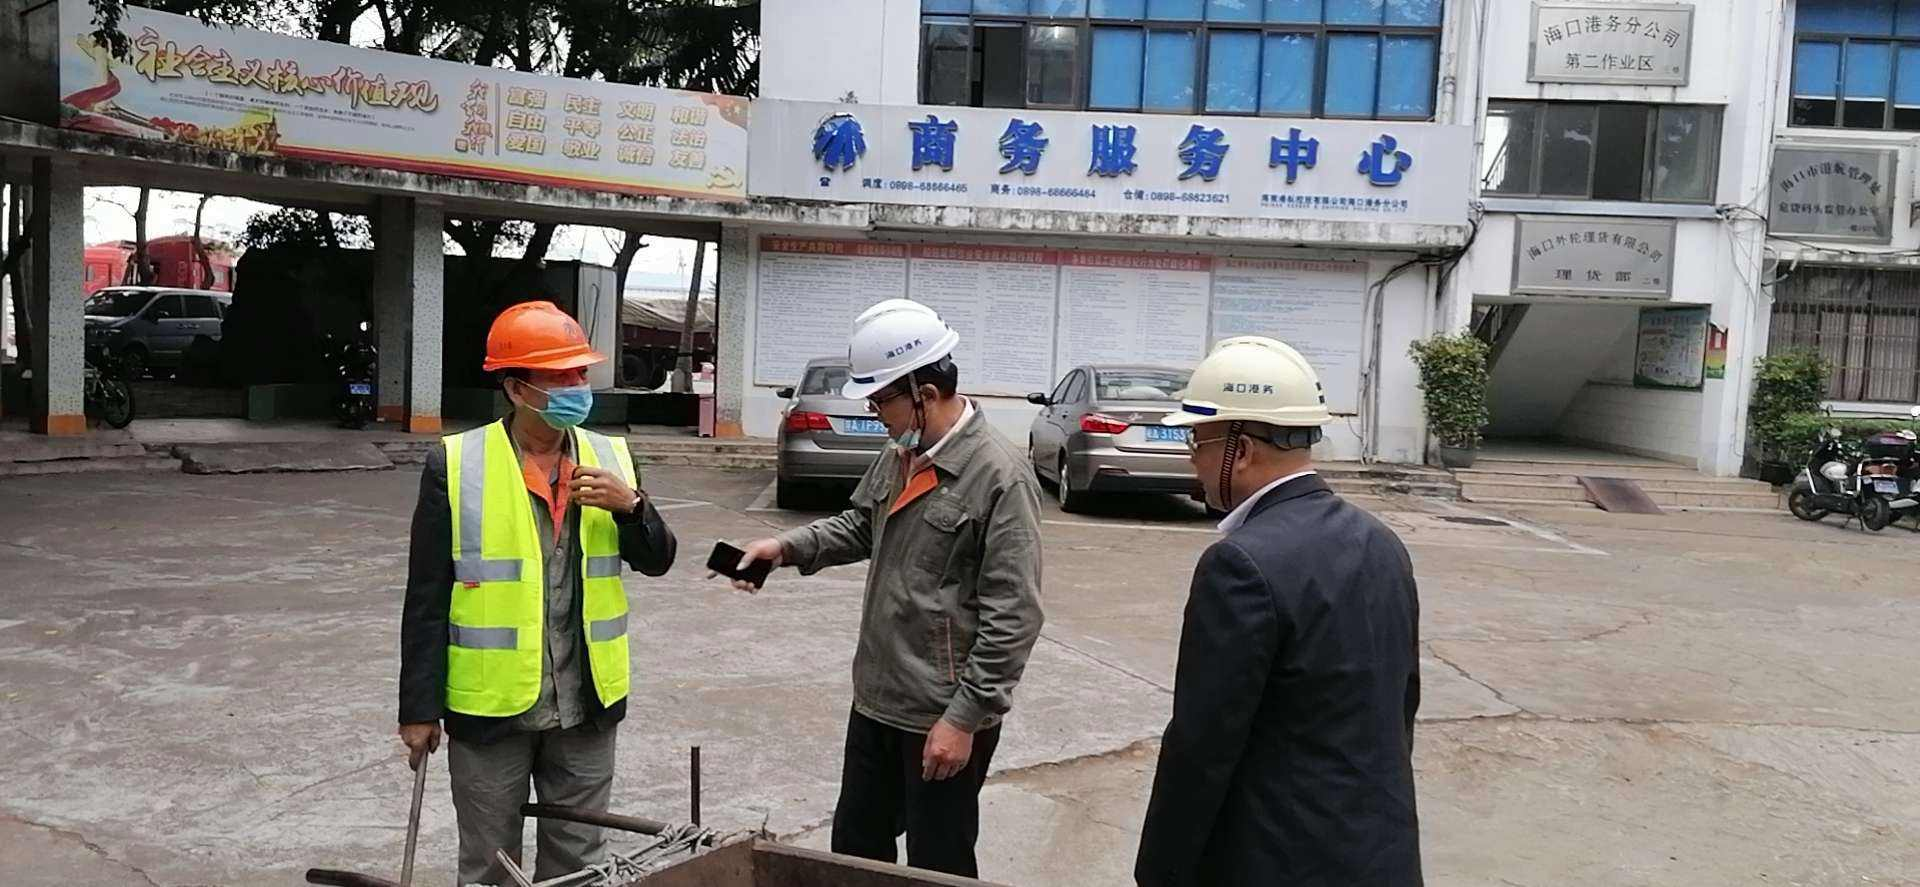ordinary_clothes: (1130, 481, 1423, 887), (842, 418, 1046, 733)
person: (708, 289, 1047, 887), (1130, 328, 1434, 887), (394, 294, 678, 887)
reflective_vest: (435, 416, 640, 727)
safety_helmet: (1159, 330, 1333, 516), (477, 292, 608, 440), (838, 293, 967, 441)
